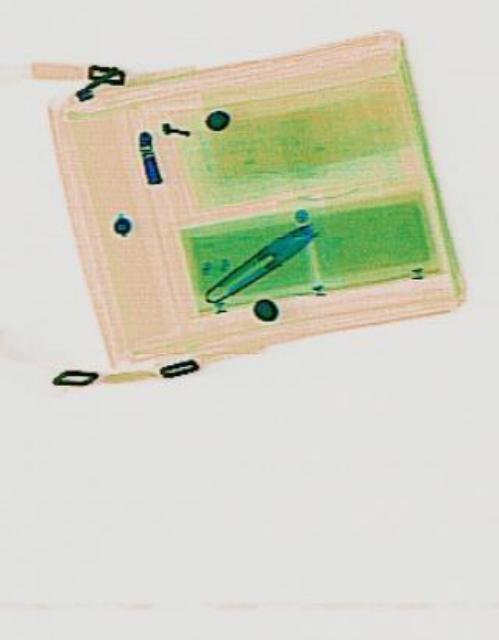Scissors: (197, 212, 322, 308)
